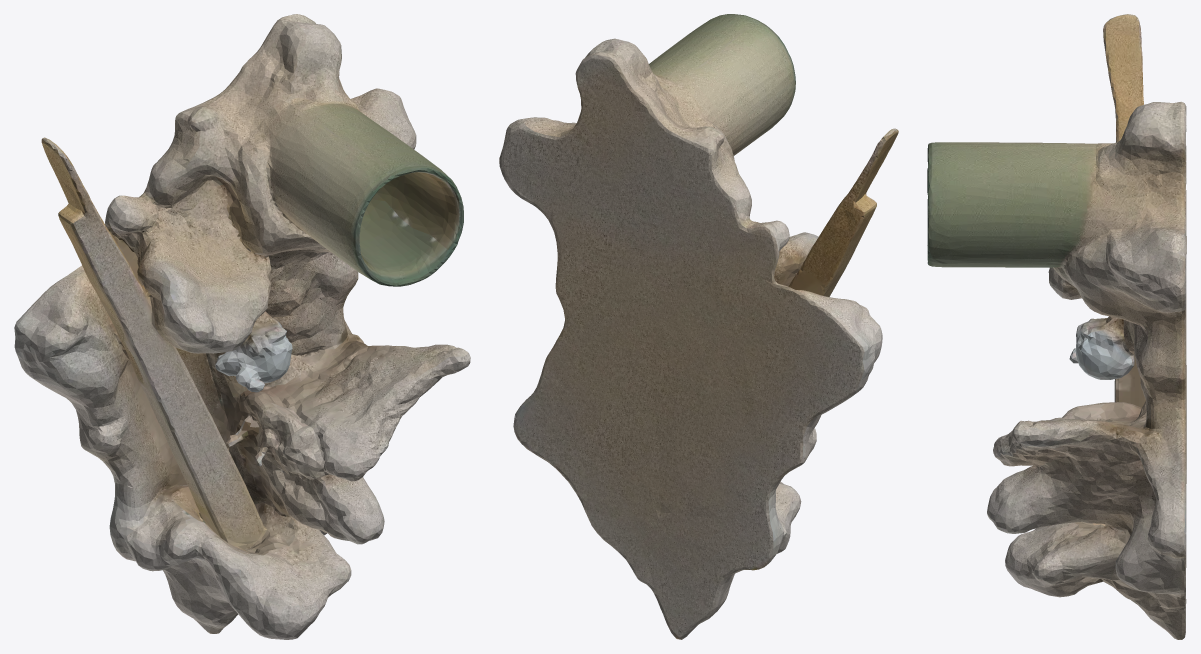
Rendered from wing (339).glb.
The picture shows the model from 3 angles, left to right: view 1: azimuth 30°, elevation 25°; view 2: azimuth 150°, elevation 25°; view 3: azimuth 270°, elevation 25°; orthographic projection. The views are drawn at different scales.
Visible parts, largest first — view 1: Hy21_Mesh.obj; view 2: Hy21_Mesh.obj; view 3: Hy21_Mesh.obj.
Part boxes in pixels (x1,y1,x2,y2): Hy21_Mesh.obj: [14, 14, 470, 639]; Hy21_Mesh.obj: [499, 14, 898, 639]; Hy21_Mesh.obj: [927, 14, 1186, 639].
Size of the model in its own units: 1.33 by 1.96 by 0.8054.
1 material, 1 textured.
